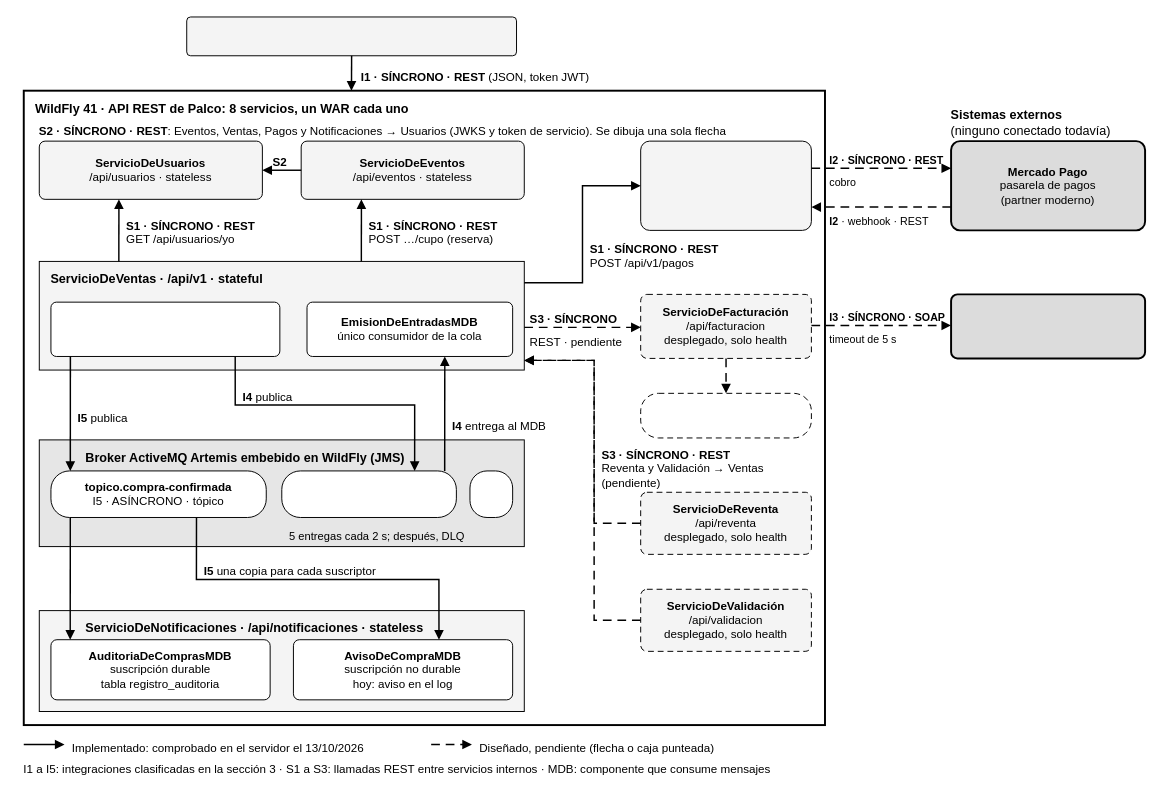
Some shapes in this 1163 by 793 pixel diagram are drawn without their labels. Here are the shapes that lost their labels. From the top down, the centre of each, then its label:
At (351,36): "Clientes: SPA en React · Postman · curl".
At (725,185): "ServicioDePagos /api/v1/pagos · stateless PasarelaDePagos: PagosFake (simulada)".
At (165,328): "confirmarCompra() publica PAGO_CONFIRMADO".
At (1048,326): "ARCA (ex AFIP) factura electrónica (sistema legado)".
At (725,415): "cola.reintento-facturacion I3 · ASÍNCRONO · cola".
At (368,493): "cola.emision-entradas I4 · ASÍNCRONO · cola".
At (491,493): "DLQ".
